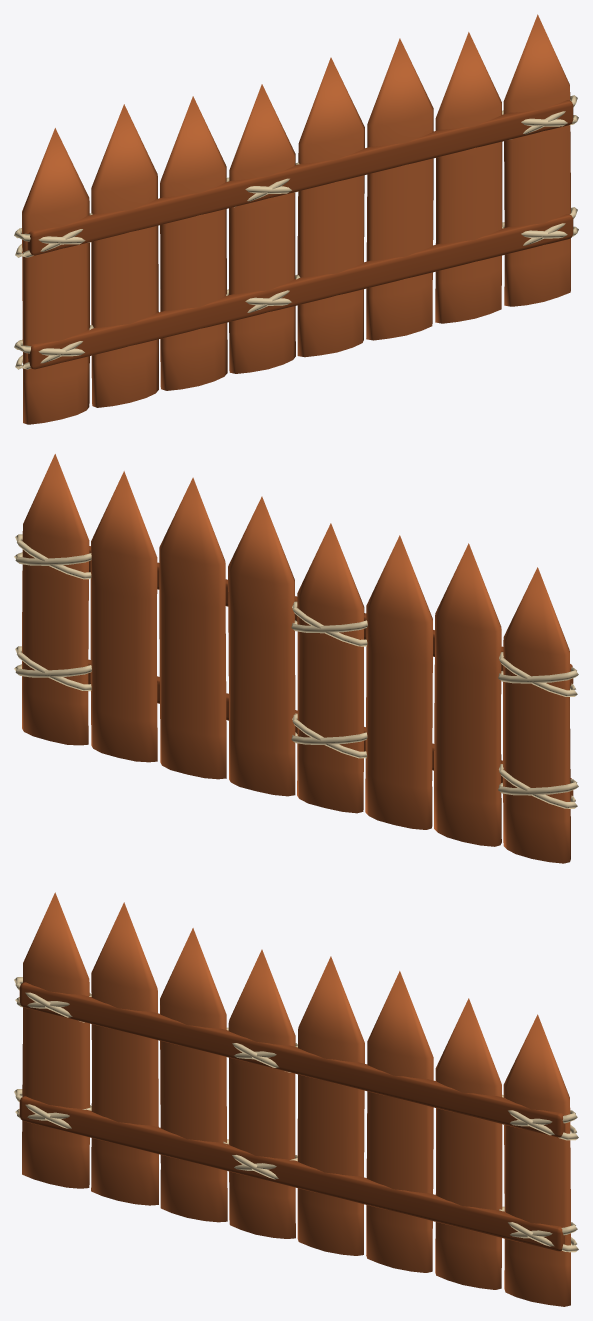
Rendered from fence_panel.obj.
3 views of the same model, one above another, from view 1: azimuth 30°, elevation 25°; view 2: azimuth 150°, elevation 25°; view 3: azimuth 330°, elevation 25° (orthographic).
Visible parts, largest first — view 1: fence_panel; view 2: fence_panel; view 3: fence_panel.
Boxes of the visible parts, <box> form: fence_panel: <box>14,14,578,424</box>; fence_panel: <box>14,454,578,863</box>; fence_panel: <box>14,892,578,1306</box>.
Size of the model in its own units: 2.94 by 1.47 by 0.1512.
